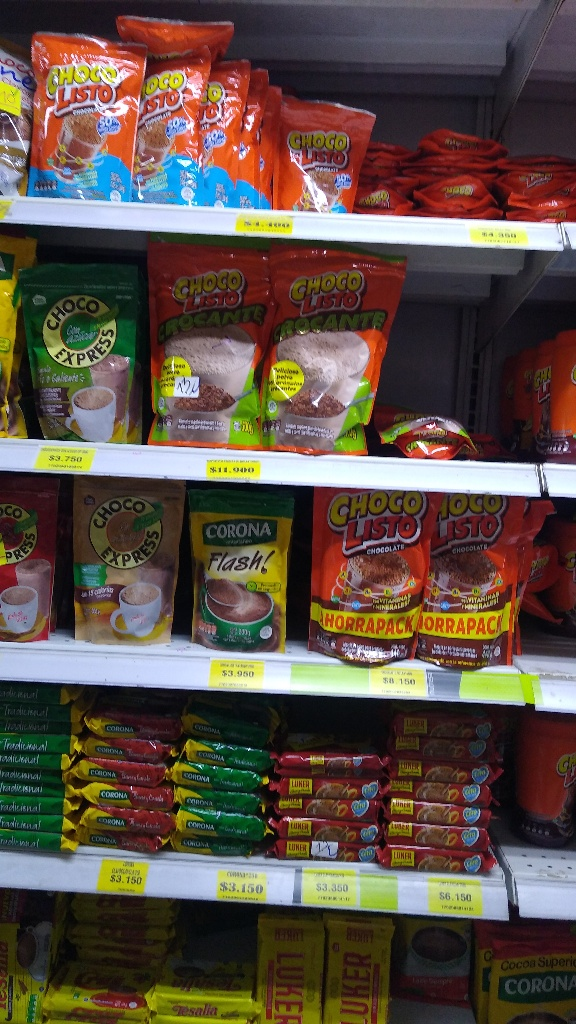COL0170102DYP50000: (143, 244, 265, 443)
COL0170103DYP44000: (313, 492, 415, 666)
COL0170103TRR30000: (506, 711, 571, 853)
COL0170104DYP20000: (271, 93, 382, 216)
